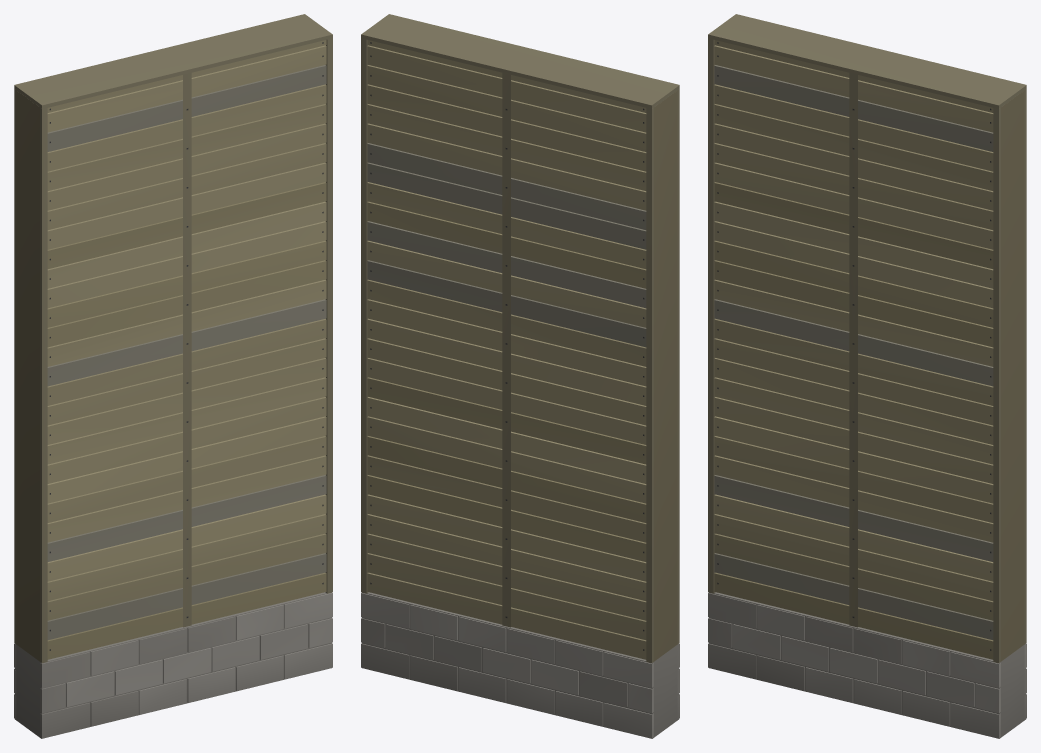
The model's file is range_backstop_c.glb.
The picture shows the model from 3 angles, left to right: view 1: azimuth 30°, elevation 25°; view 2: azimuth 150°, elevation 25°; view 3: azimuth 330°, elevation 25°; orthographic projection.
Visible parts, largest first — view 1: RangeBackstop_c; view 2: RangeBackstop_c; view 3: RangeBackstop_c.
Part boxes in pixels (left/top/right/bottom): RangeBackstop_c: left=14, top=14, right=332, bottom=738; RangeBackstop_c: left=361, top=14, right=679, bottom=738; RangeBackstop_c: left=708, top=14, right=1026, bottom=738.
Size of the model in its own units: 2.4 by 5 by 0.4.
